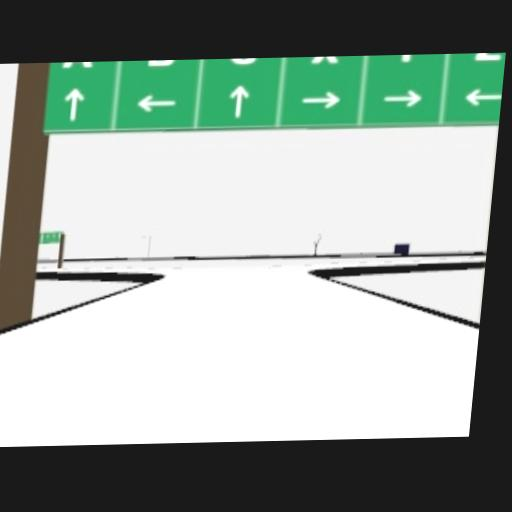A: (61, 62, 92, 68)
B: (146, 61, 173, 66)
C: (226, 59, 257, 64)
Left: (134, 94, 177, 113), (460, 89, 502, 106)
Right: (300, 90, 343, 109), (381, 88, 422, 107)
Straight: (61, 87, 84, 121), (226, 85, 249, 118)
X: (310, 57, 339, 62)
Y: (391, 55, 422, 63)
Z: (473, 53, 502, 61)
